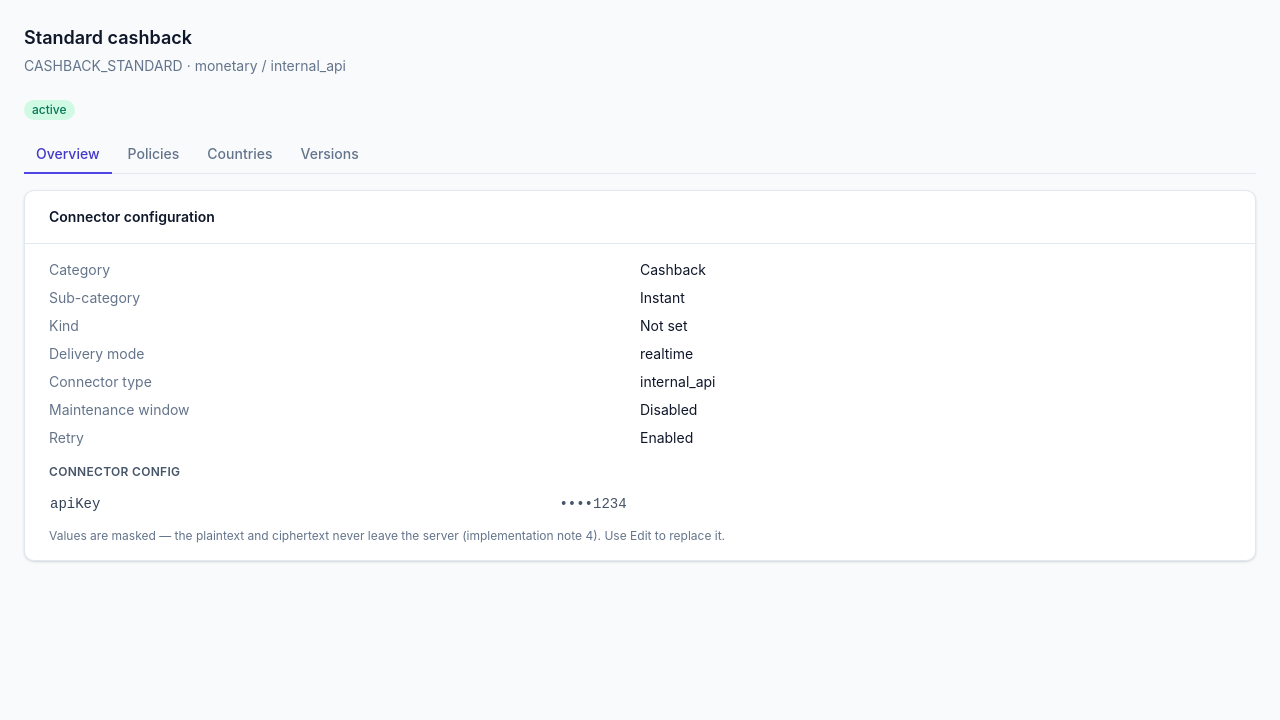
Test: RewardDetailPage › shows "Not assigned to any country yet" when the reward has no assignments
The image size is (1280, 720).
Click the tab "Countries". click: click(240, 155)
box: [195,136,284,174]
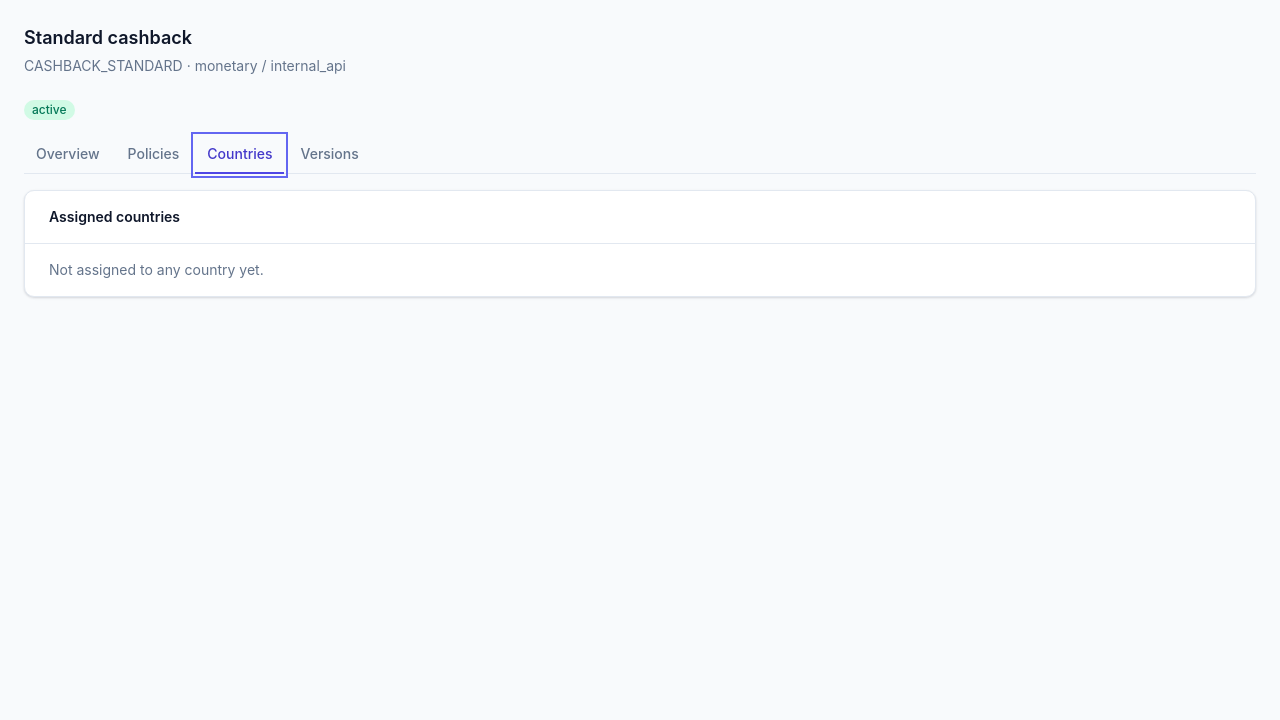
Expected: the text "Not assigned to any country yet." is shown, [49,261,264,278]
